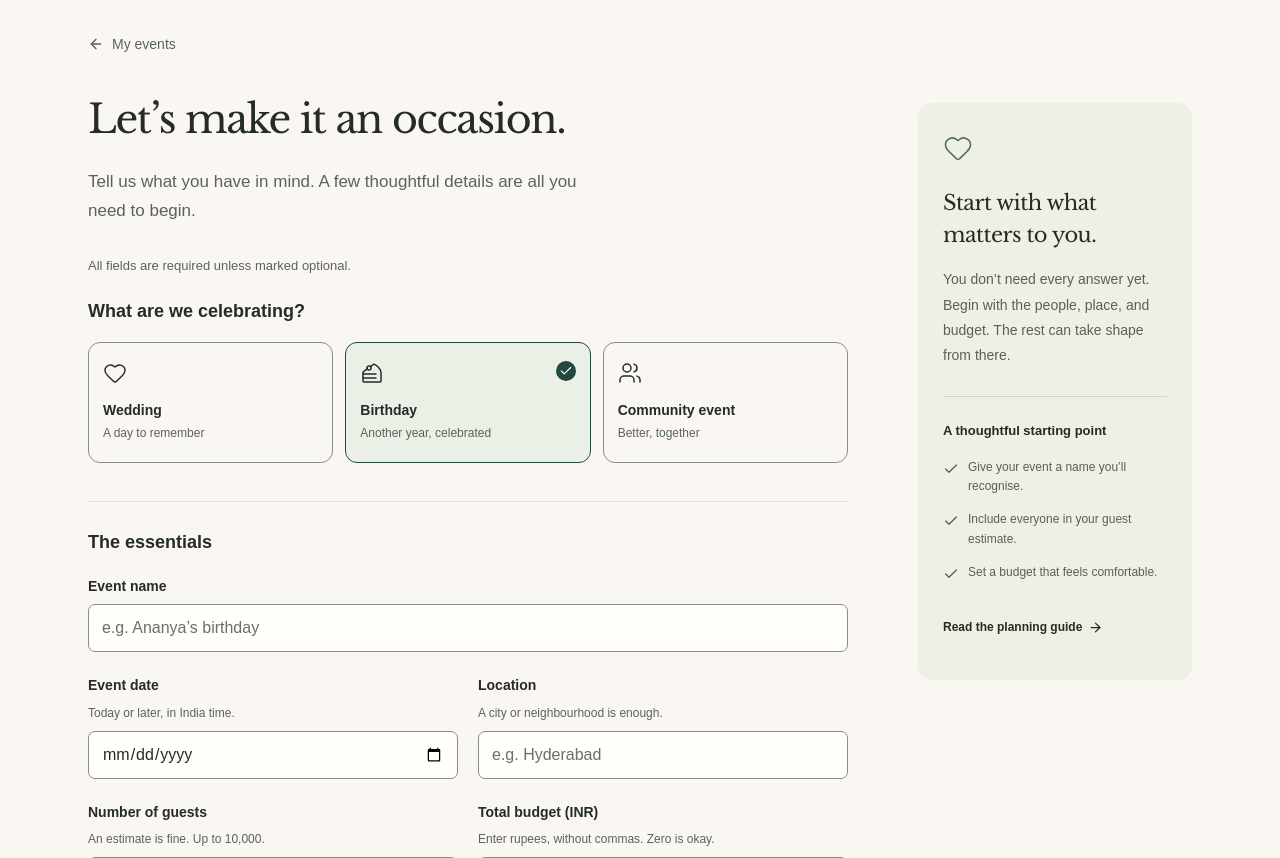
Scenario: accessible event form › reviews a valid brief, then preserves values when editing
Type "Ananya’s birthday" into the field labelled "Event name" at (468, 628), box [88,604,848,652]
Type "2099-11-01" into the date field labelled "Event date" at (273, 755), box [88,731,458,779]
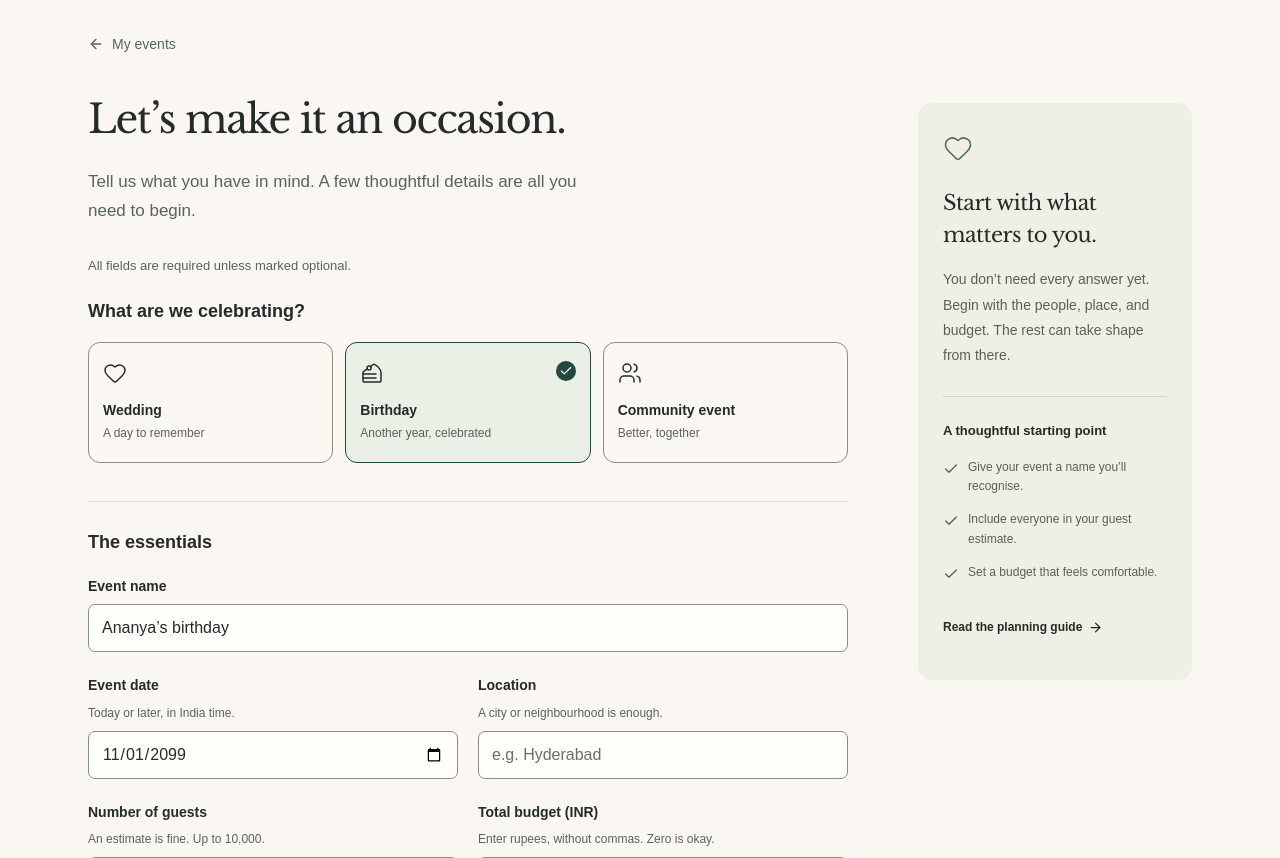
Type "Hyderabad" into the field labelled "Location" at (663, 755), box [478,731,848,779]
(page scrolled)
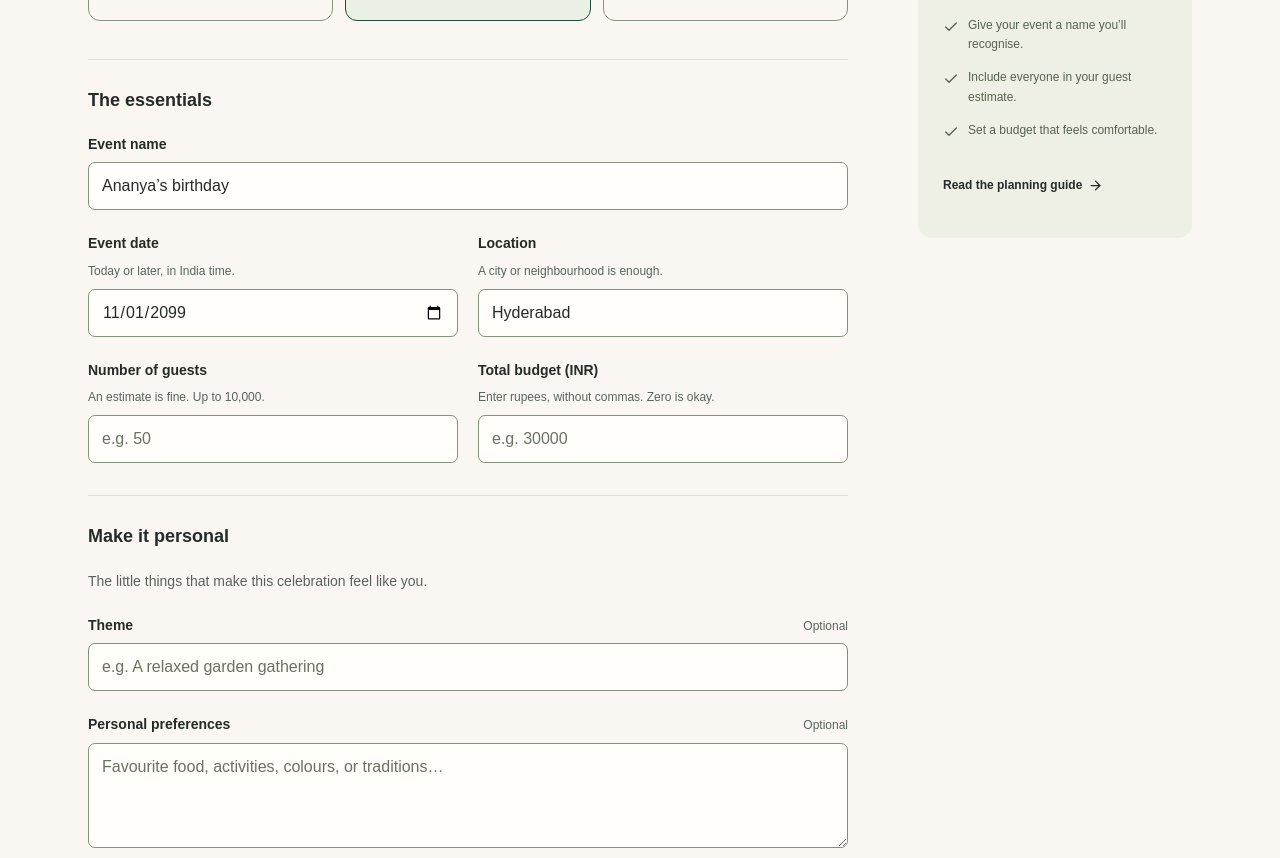
Type "50" into the number field labelled "Number of guests" at (273, 439), box [88,415,458,463]
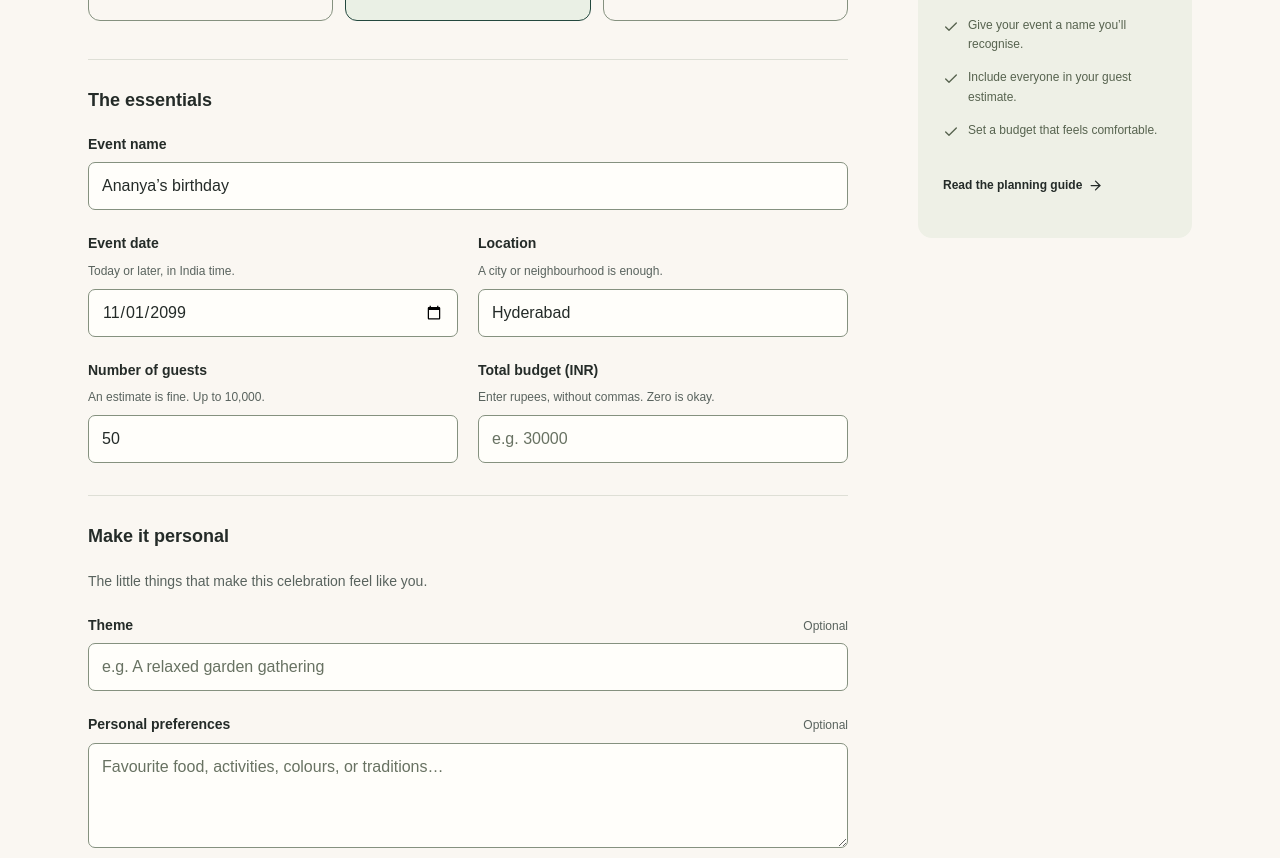
Type "30000.29" into the field labelled "Total budget (INR)" at (663, 439), box [478,415,848,463]
(page scrolled)
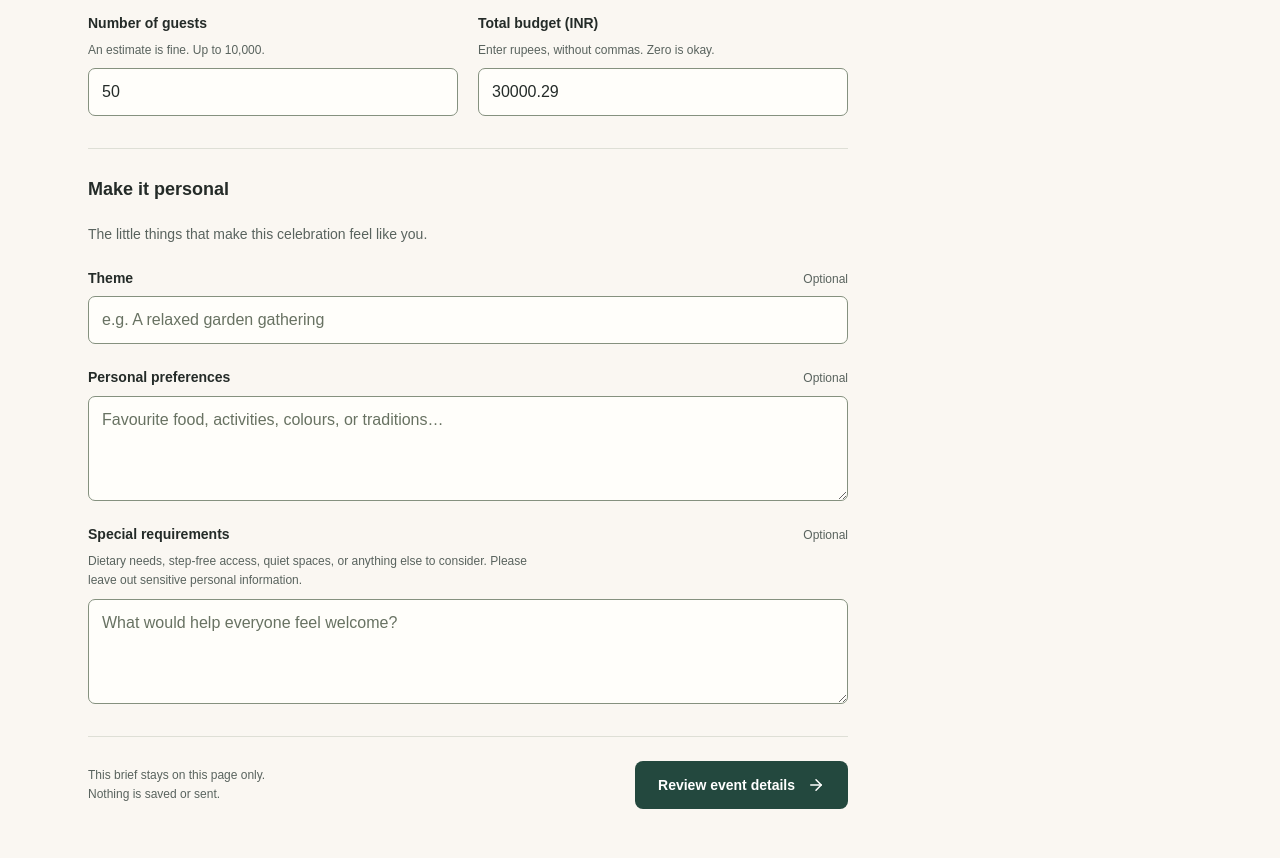
Click the button "Review event details" at (742, 785), box [635,760,848,809]
(page scrolled)
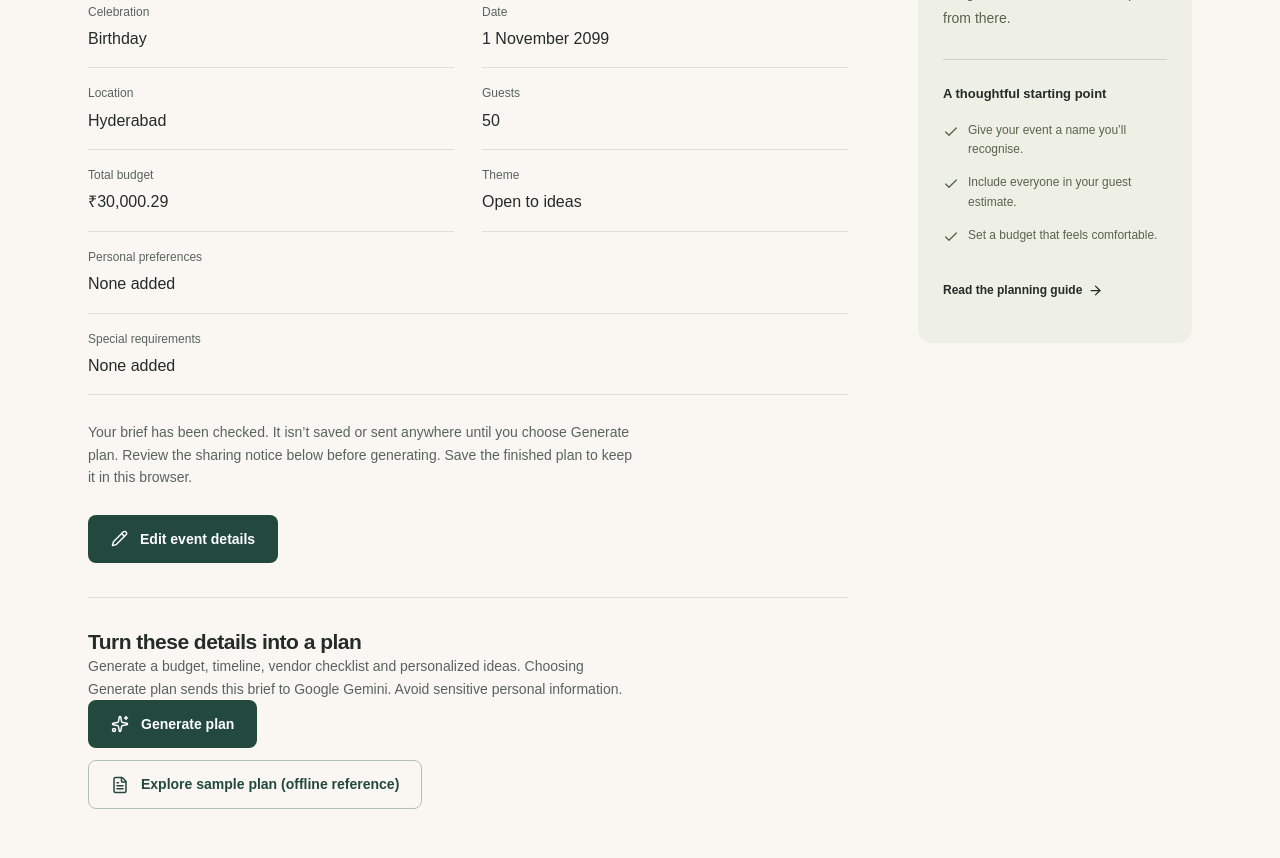
Now the message shows "isn’t saved or sent anywhere", box [88,424,632,485]
Now the text "₹30,000.29" is shown, box [88,193,168,210]
Click the button "Edit event details" at (183, 539), box [88,515,278,563]
(page scrolled)
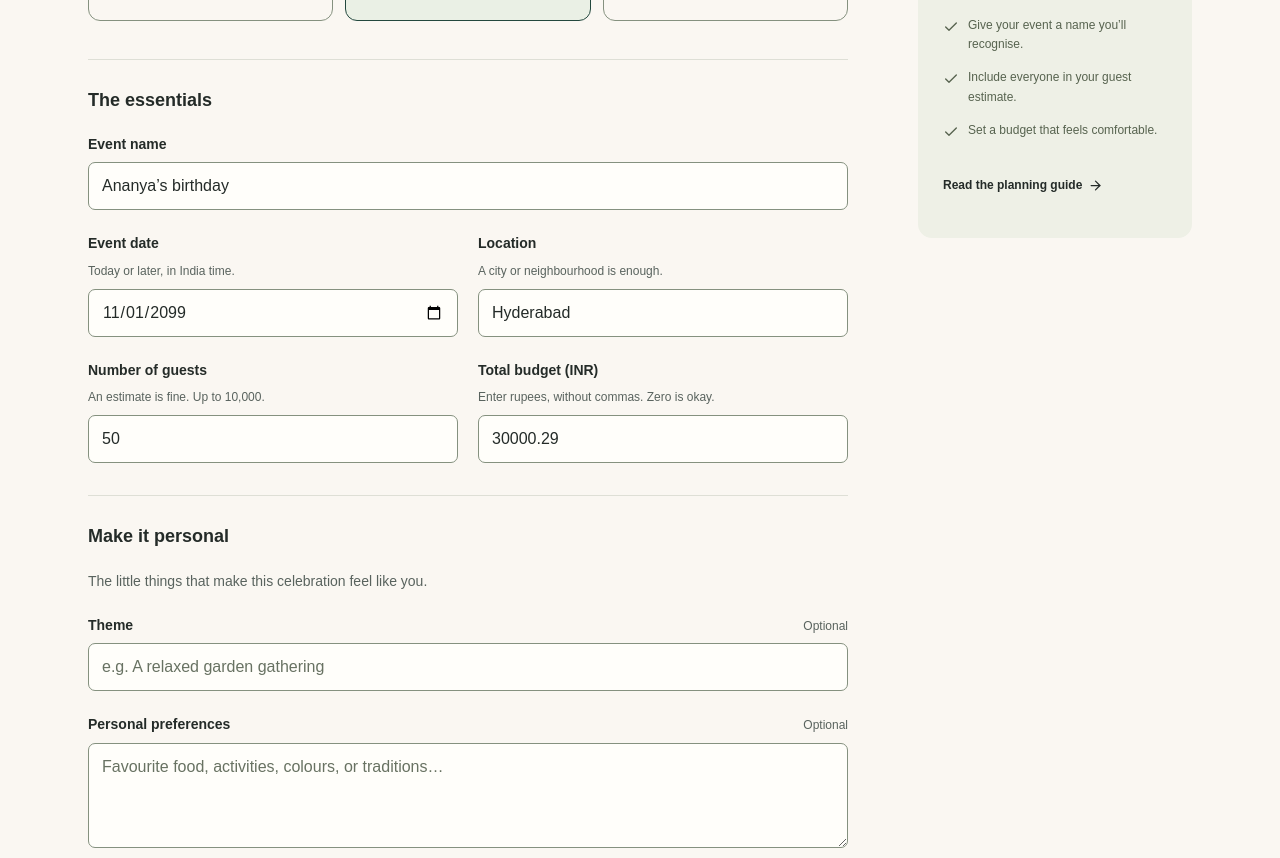
Now the field labelled "Event name" holds "Ananya’s birthday", box [88,162,848,210]
Now the field labelled "Total budget (INR)" holds "30000.29", box [478,415,848,463]
